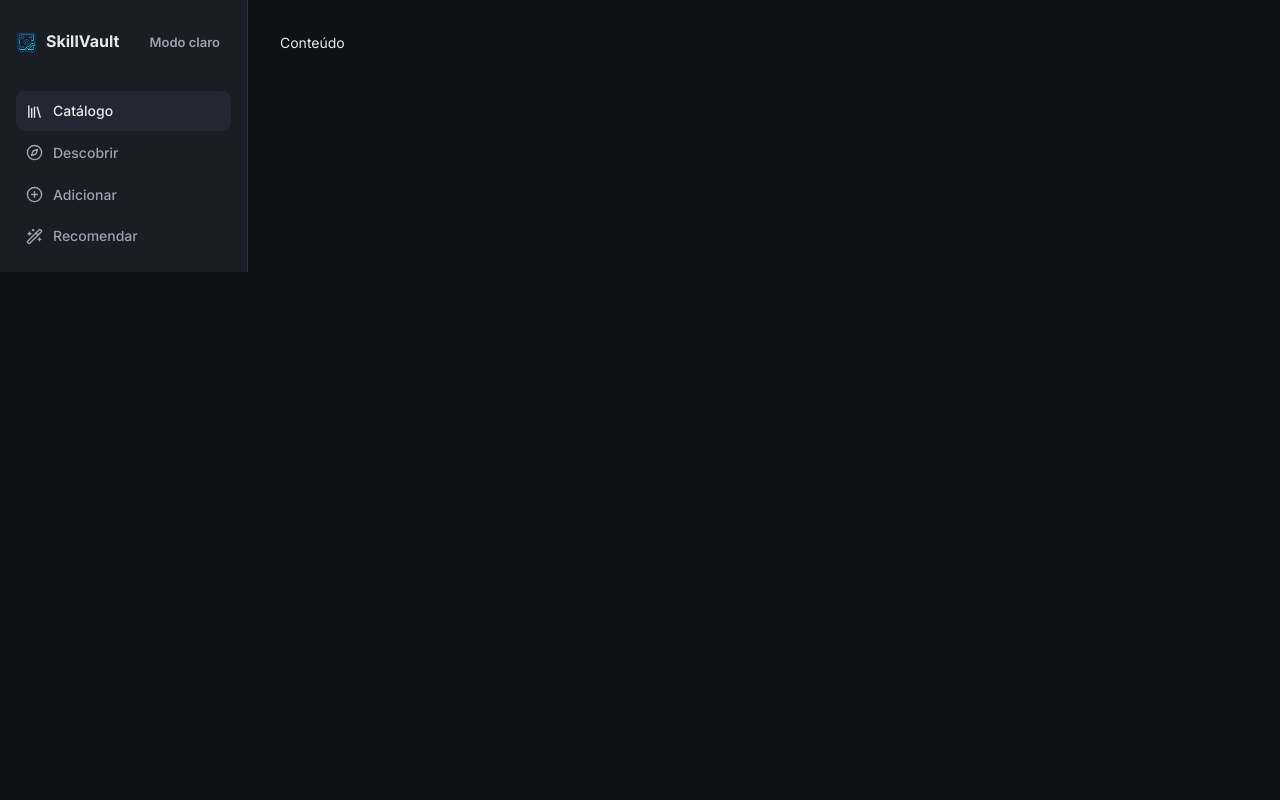
Layout › renders navigation links, the routed content, and toggles the theme
Expected: the text "Conteúdo" is shown, left=280, top=34, right=345, bottom=51
Expected: the link "Catálogo" is shown, left=16, top=91, right=231, bottom=131
Step 1. Click the button "Modo claro" → (185, 42), box left=138, top=27, right=231, bottom=57
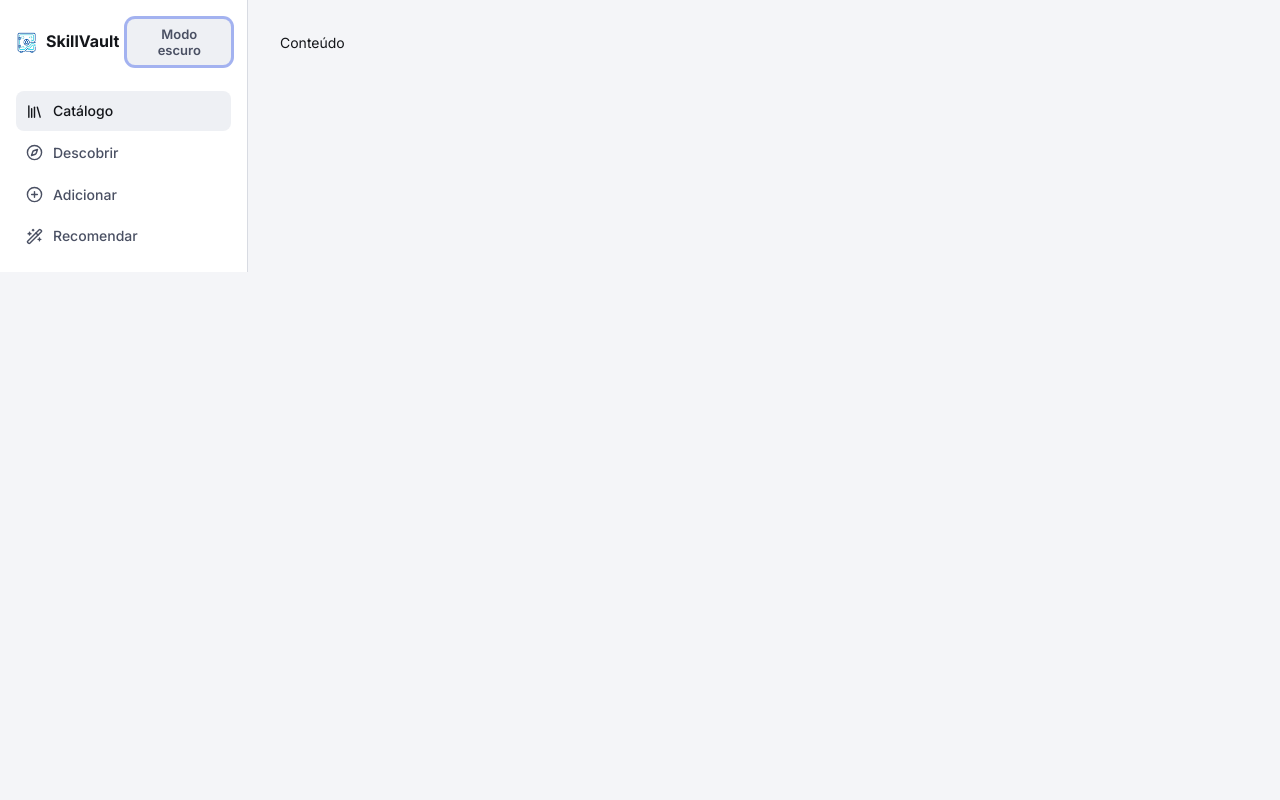
Now the button "Modo escuro" is shown, box left=128, top=19, right=231, bottom=65
